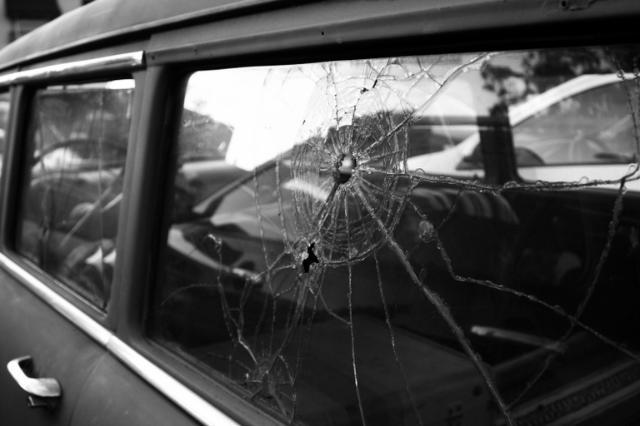Door: (123, 21, 640, 426)
